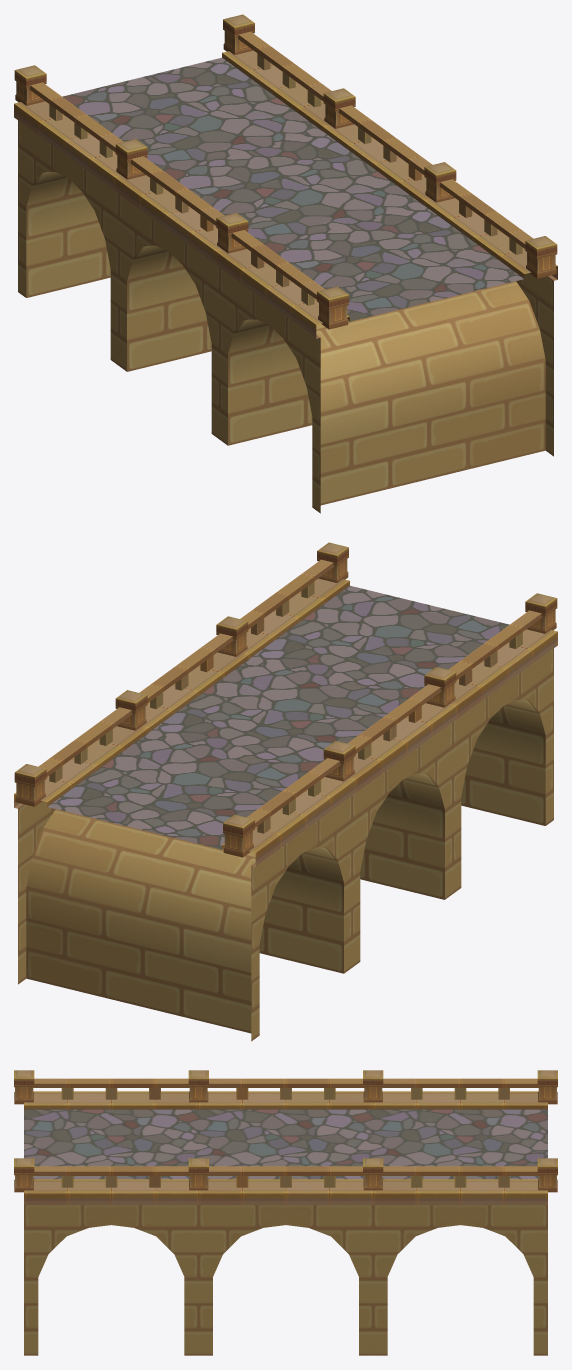
Rendered from Bridge01_c01.FBX.
3 views of the same model, one above another, from view 1: azimuth 30°, elevation 25°; view 2: azimuth 150°, elevation 25°; view 3: azimuth 270°, elevation 25° (orthographic). The views are drawn at different scales.
Parts seen in each view (by area): view 1: Bridge01_c01; view 2: Bridge01_c01; view 3: Bridge01_c01.
Part boxes in pixels (<box>): Bridge01_c01: <box>14,14,557,513</box>; Bridge01_c01: <box>14,542,557,1041</box>; Bridge01_c01: <box>14,1070,557,1355</box>.
Bounding box in the file's own units: 985 × 860 × 2220.
